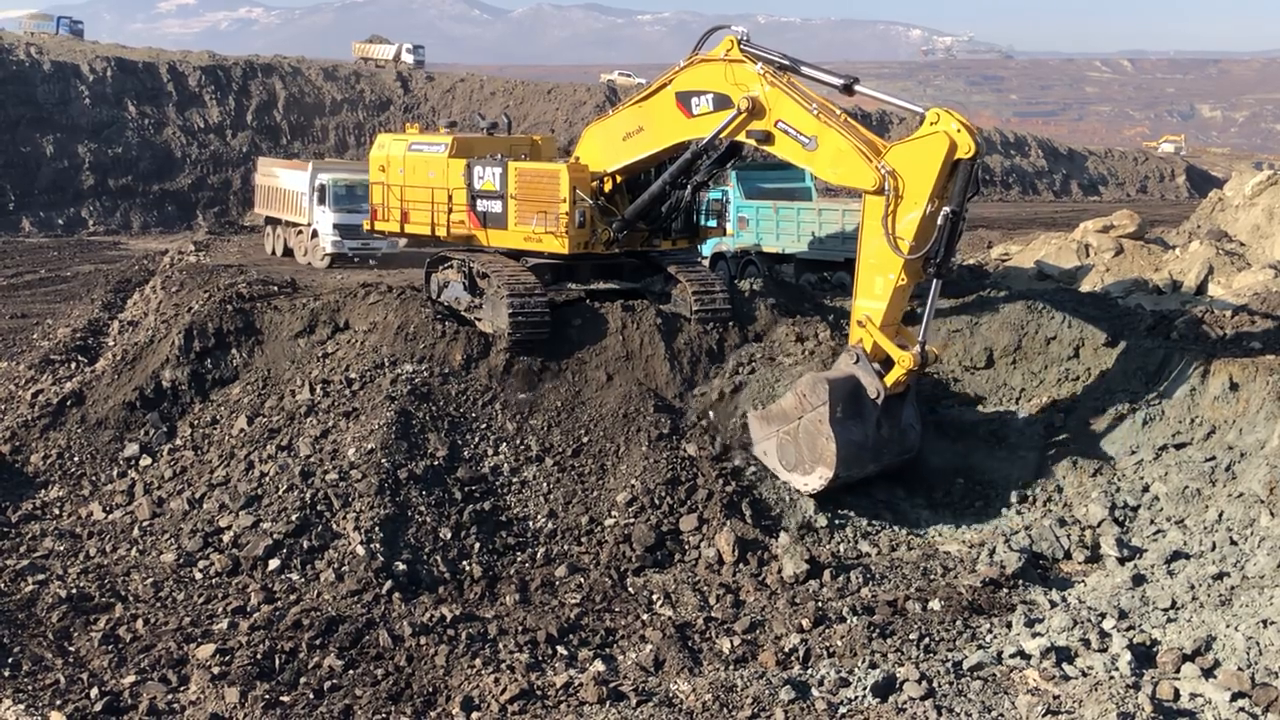full: (724, 341, 932, 500)
